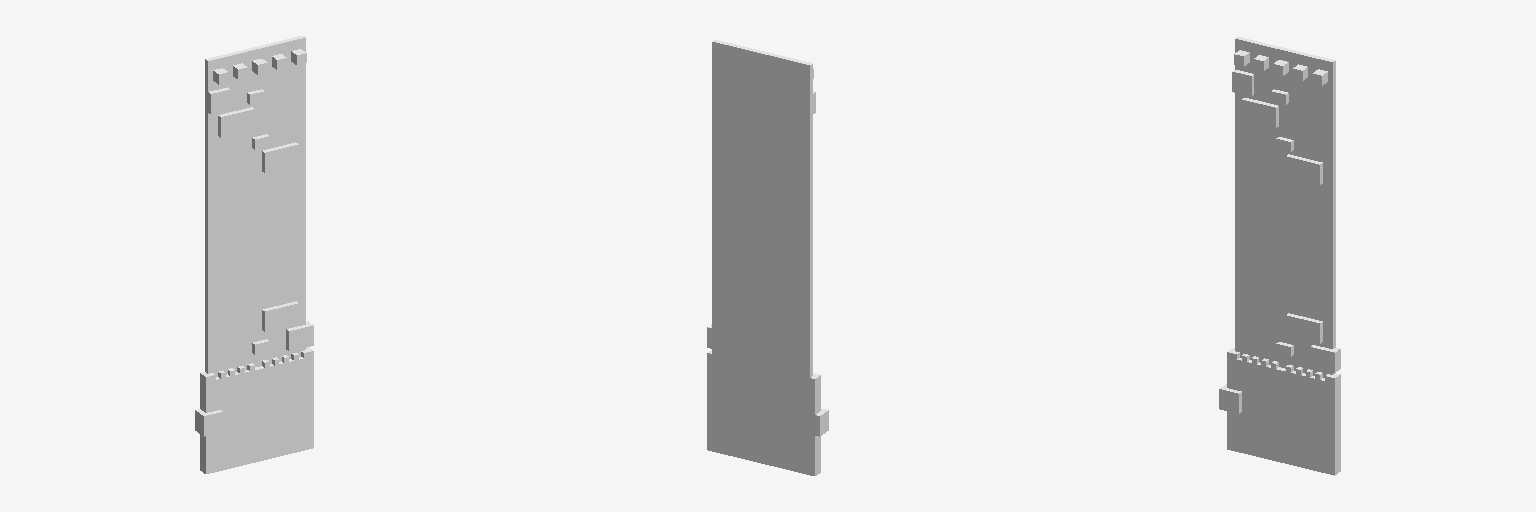
File: TallBuilding01-5.obj
3 views of the same model, side by side, from view 1: azimuth 30°, elevation 25°; view 2: azimuth 150°, elevation 25°; view 3: azimuth 330°, elevation 25° (orthographic).
Parts seen in each view (by area): view 1: object 1; view 2: object 1; view 3: object 1.
Boxes of the visible parts, x1,y1,x2,y2 form: object 1: [195, 36, 313, 473]; object 1: [707, 40, 828, 475]; object 1: [1219, 37, 1340, 475].
Bounding box in the file's own units: 2.3 × 8 × 0.3.